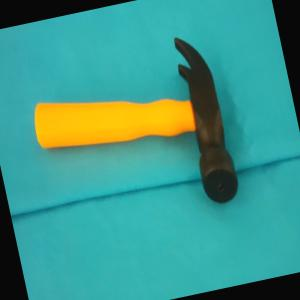martelo: (23, 30, 242, 238)
